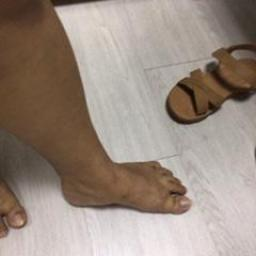Medial View -Left Foot-: (50, 141, 196, 230)
